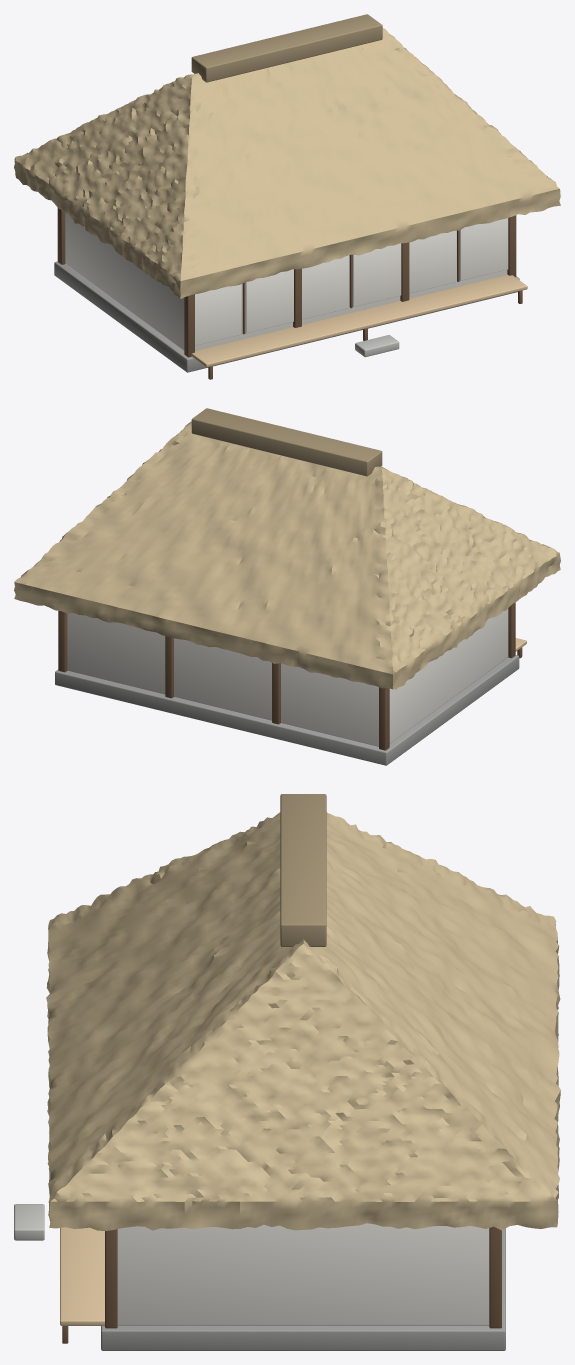
The model's file is kominka.glb.
The picture shows the model from 3 angles, top to bottom: view 1: azimuth 30°, elevation 25°; view 2: azimuth 150°, elevation 25°; view 3: azimuth 270°, elevation 25°; orthographic projection. The views are drawn at different scales.
Parts seen in each view (by area): view 1: kominka; view 2: kominka; view 3: kominka.
Boxes of the visible parts, x1=… form: kominka: x1=14, y1=14, x2=560, y2=379; kominka: x1=14, y1=408, x2=560, y2=765; kominka: x1=14, y1=794, x2=560, y2=1350.
Bounding box in the file's own units: 13.15 × 7.95 × 10.67.
